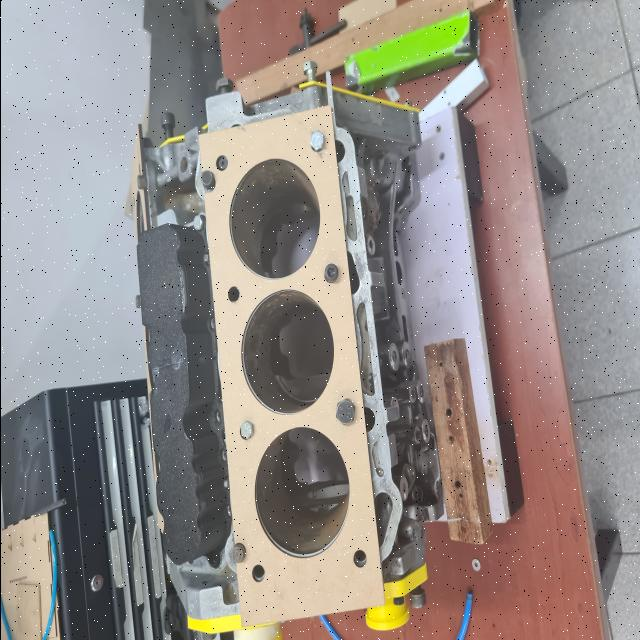vista1: (197, 102, 385, 627)
